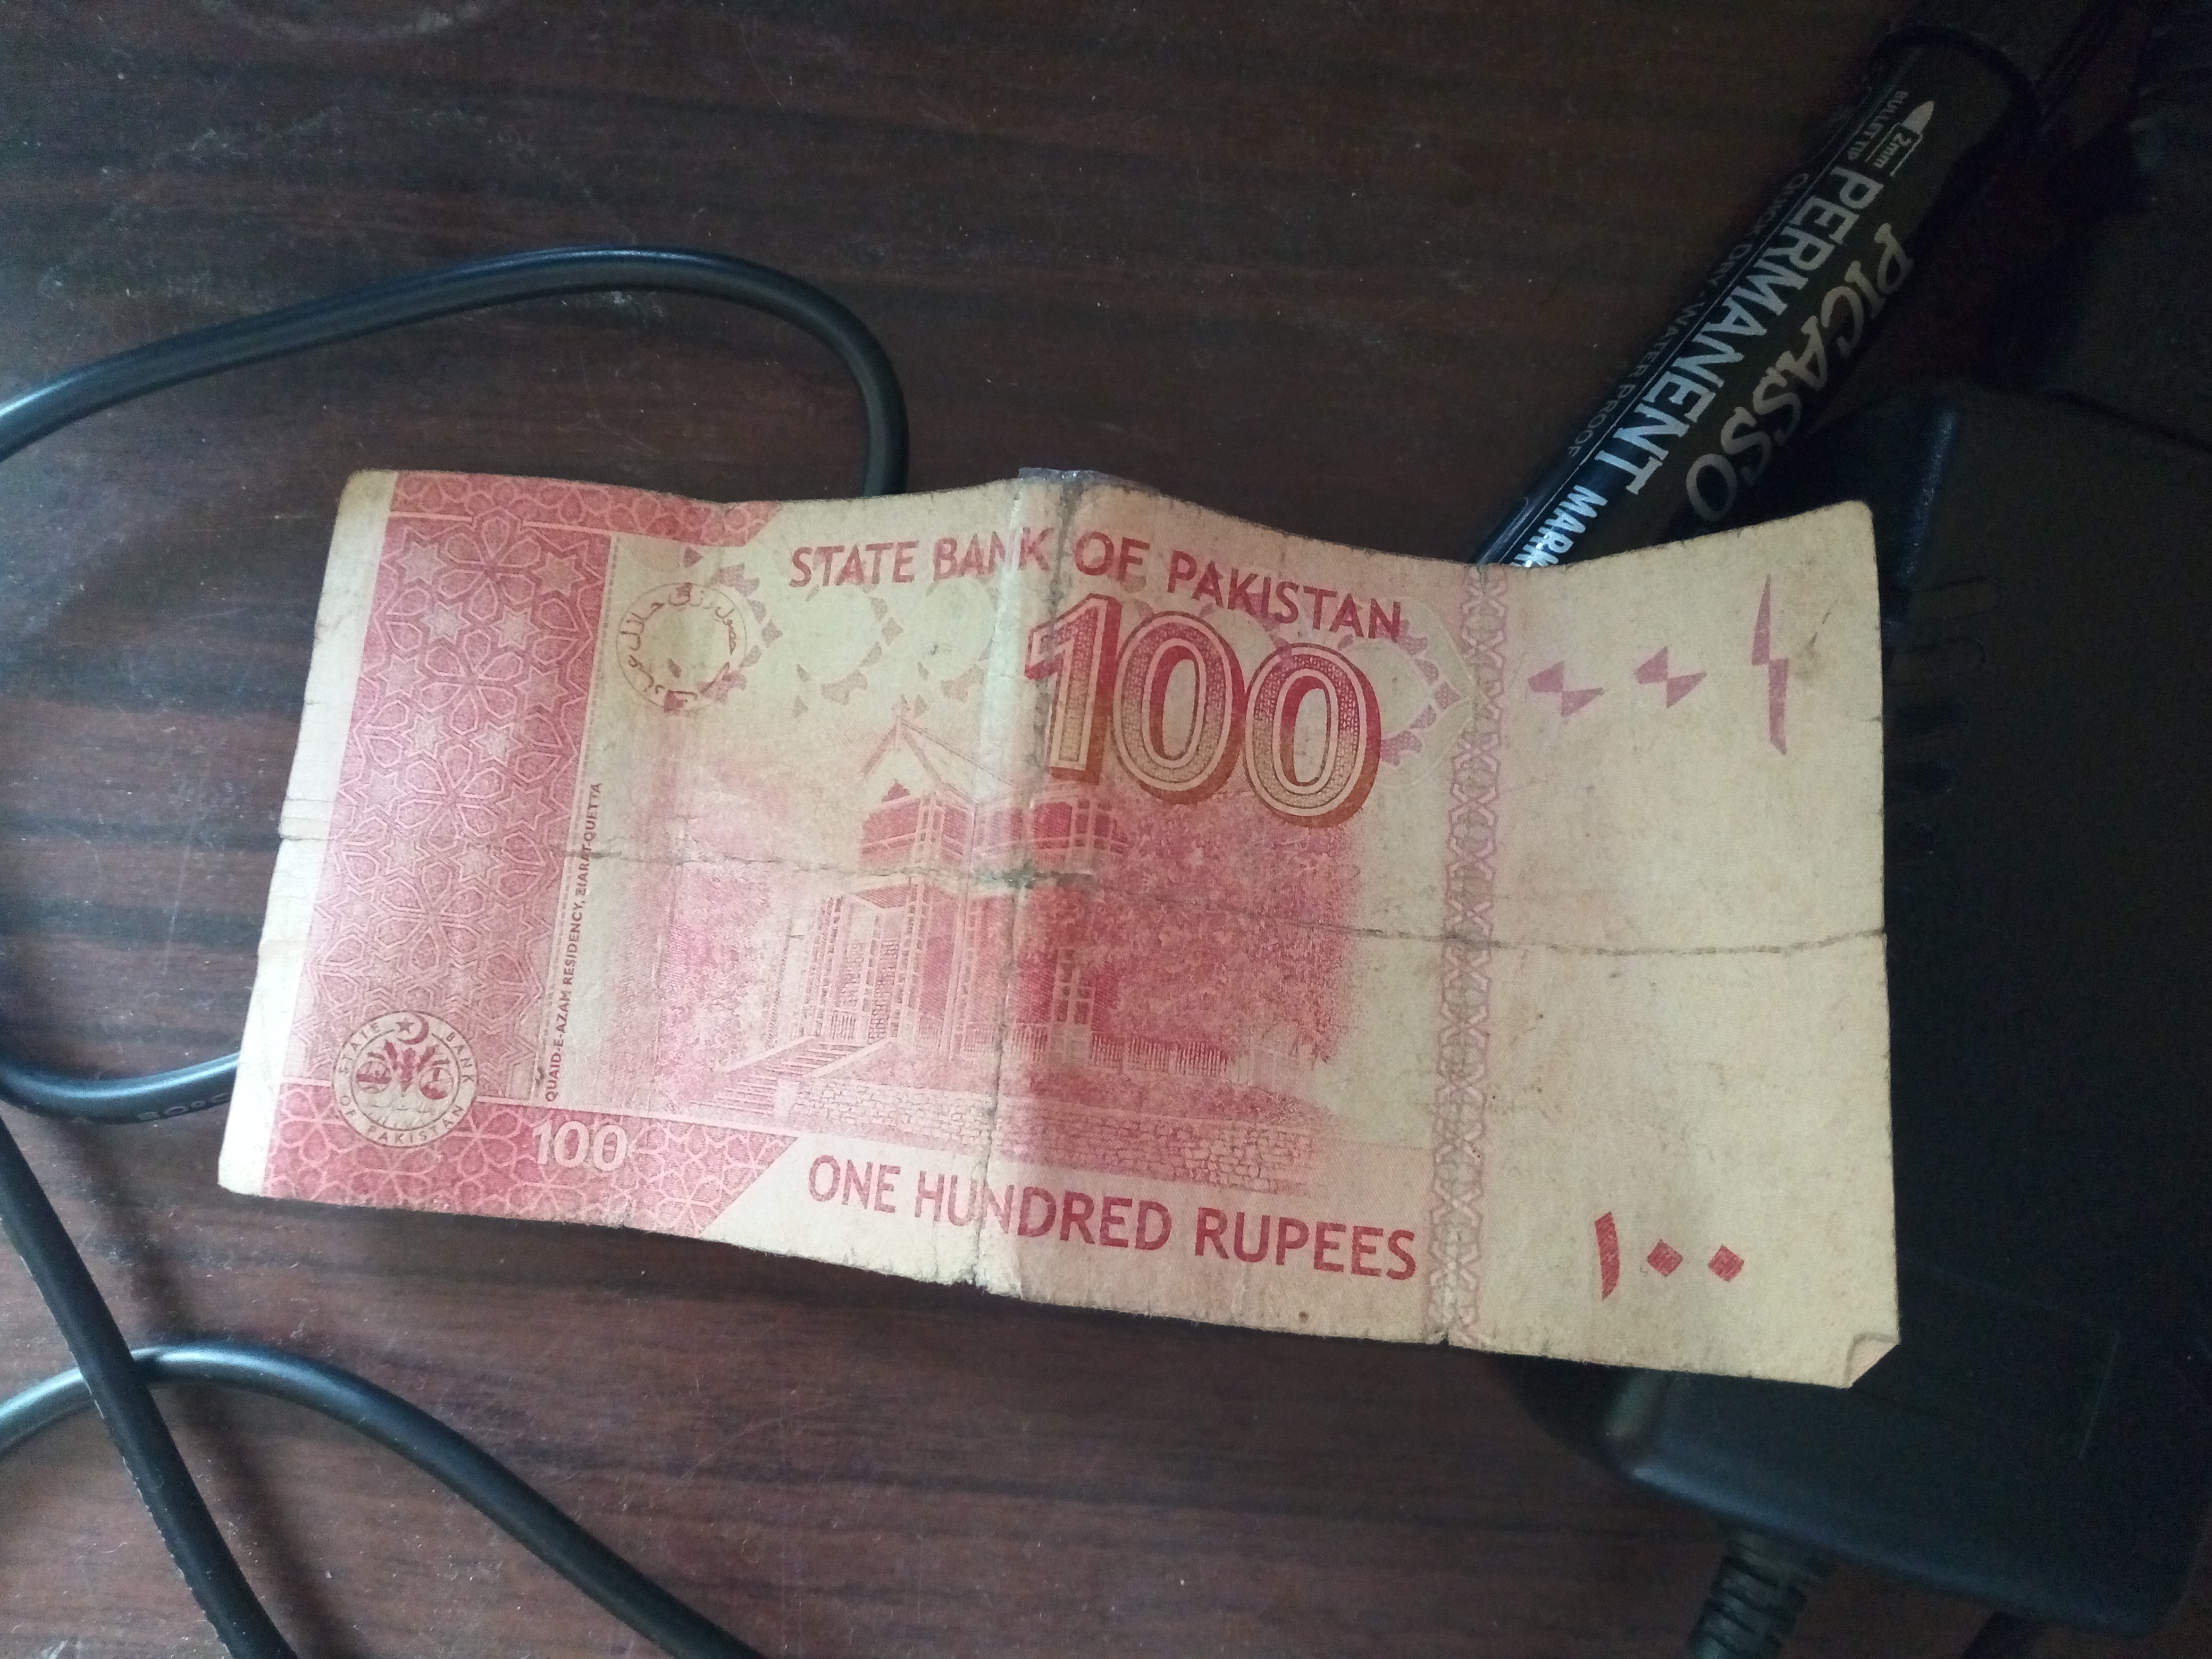100 rupee: (233, 469, 1883, 1356)
